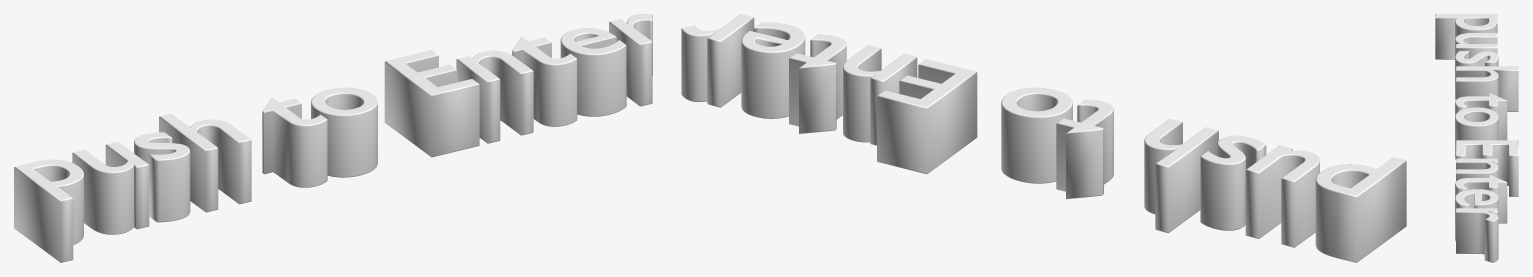
The model's file is pushToEnter.obj.
The picture shows the model from 3 angles, left to right: view 1: azimuth 30°, elevation 25°; view 2: azimuth 150°, elevation 25°; view 3: azimuth 270°, elevation 25°; orthographic projection. The views are drawn at different scales.
Parts seen in each view (by area): view 1: テキスト; view 2: テキスト; view 3: テキスト.
Boxes of the visible parts, box(x1,y1,x2,y2) form: テキスト: box(14, 14, 652, 262); テキスト: box(681, 14, 1406, 262); テキスト: box(1435, 14, 1518, 262).
Bounding box in the file's own units: 5.5 × 0.52 × 0.932.
Materials: 1 (1 with a texture image).
